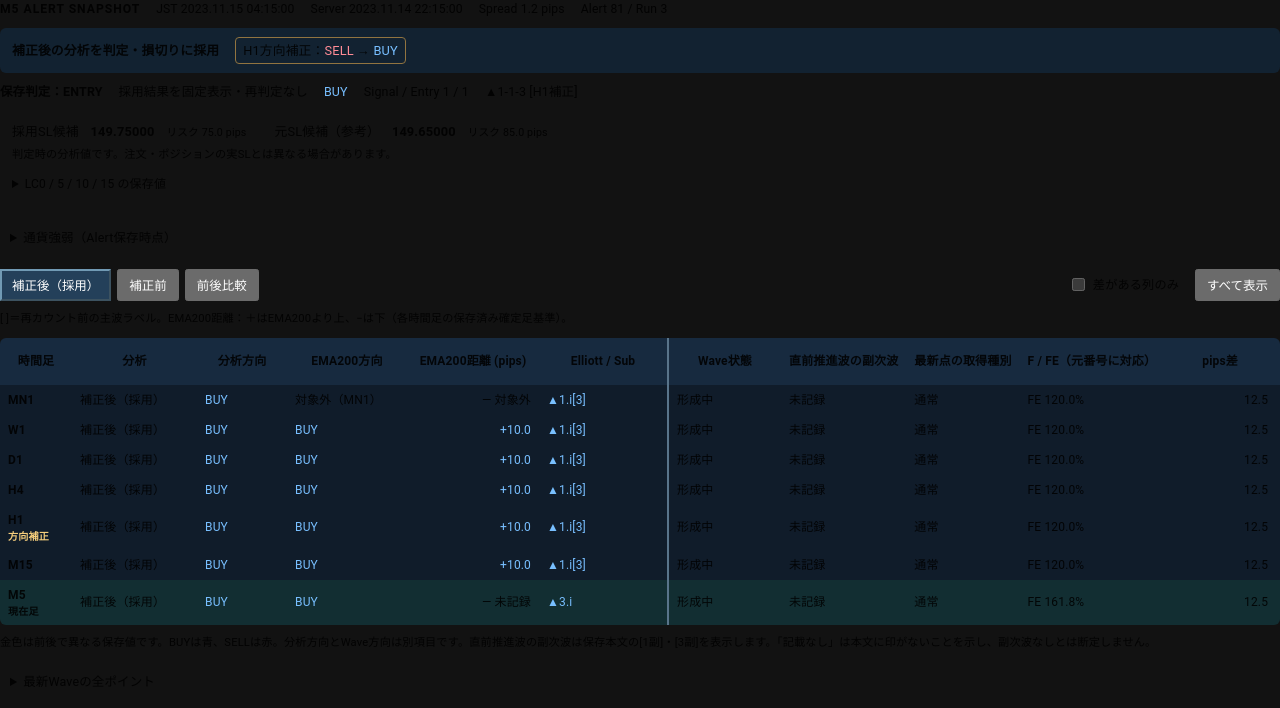
Test case: M5 Alert corrected snapshots › compares availability changes even when stored FE and EMA numbers are unchanged
Click the button "前後比較" at x=222, y=285, box [185,269,259,301]
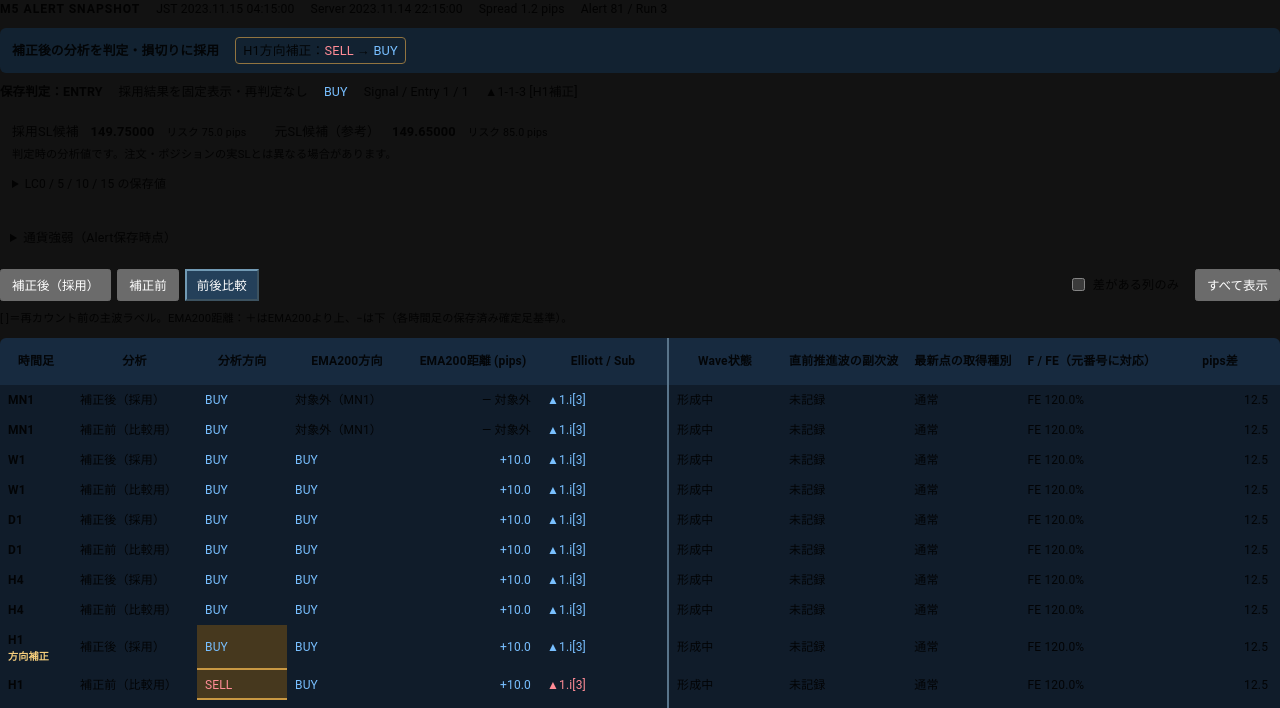
Click the button "すべて表示" at x=1238, y=285, box [1195,269,1279,301]
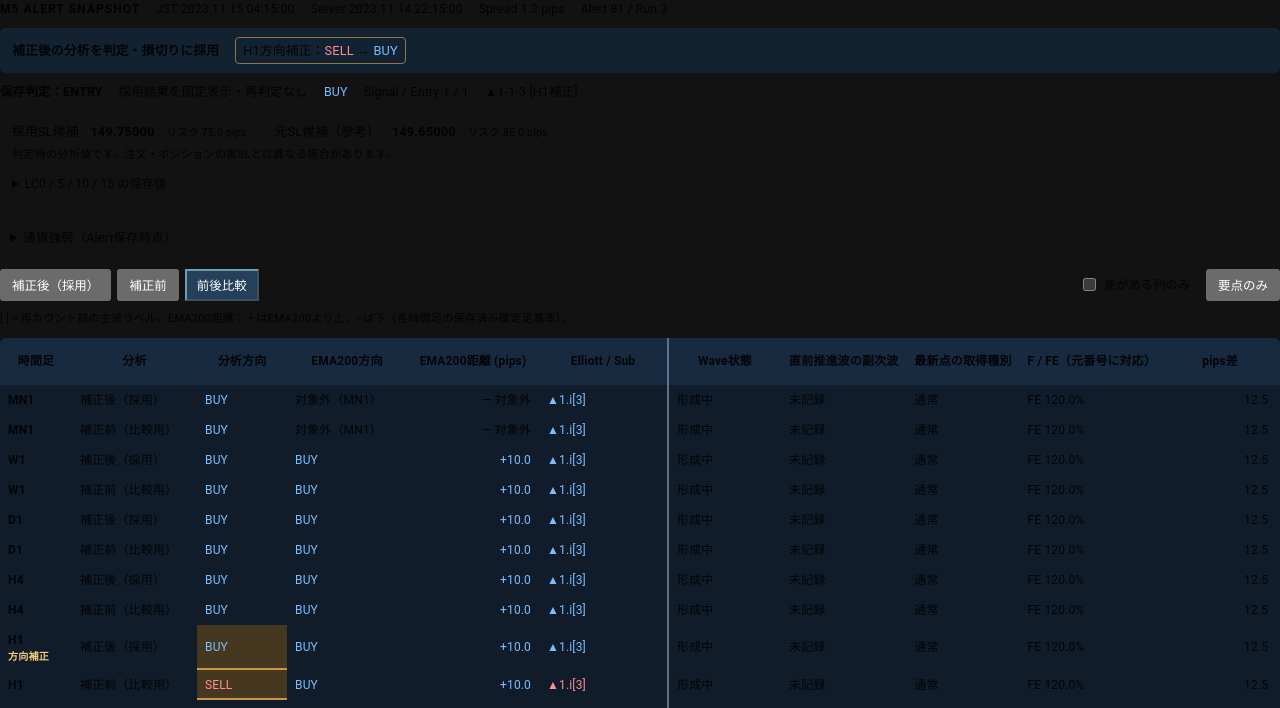
Click the checkbox labelled "差がある列のみ" at x=1090, y=285, box [1083,278,1096,291]
(page scrolled)
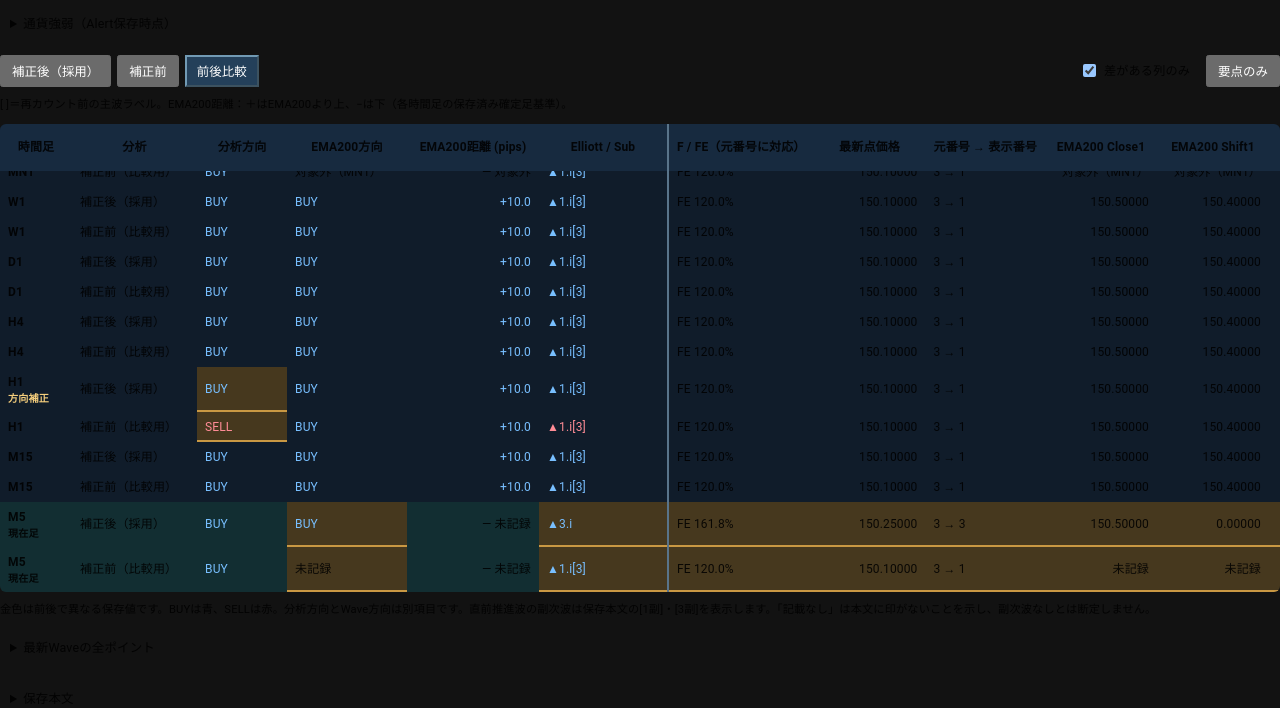
Expected: the text "未記録" is shown, [1157,547,1269,592]
Expected: the cell "0.00000" is shown, [1157,502,1269,547]
